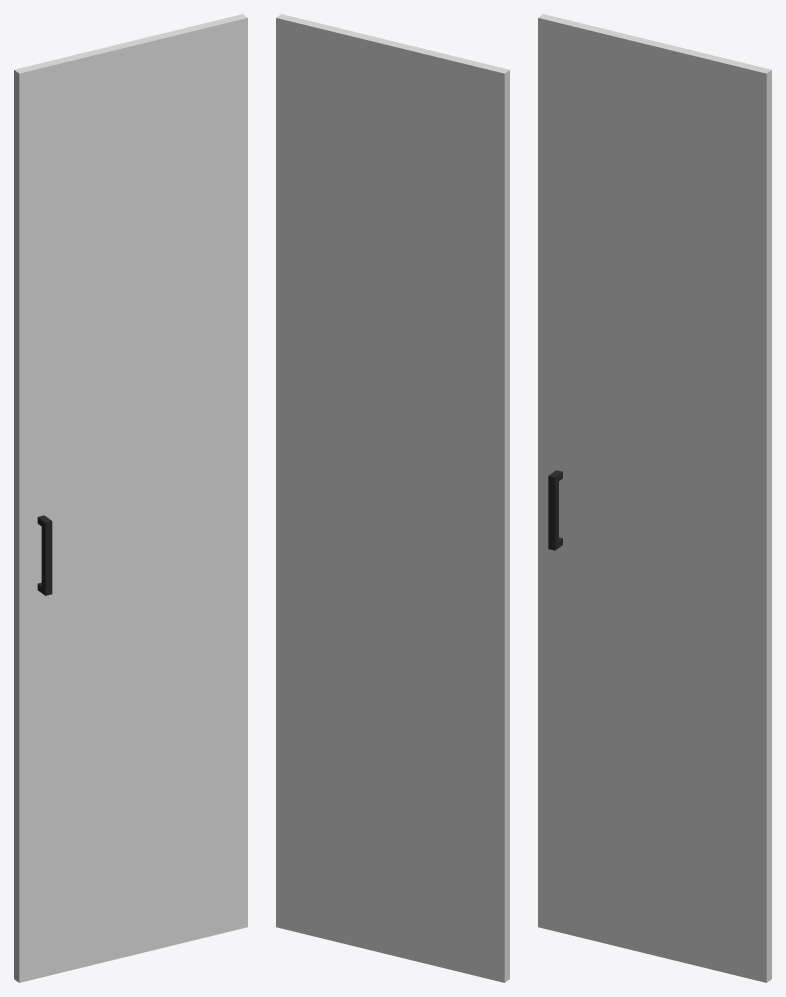
File: Wardrobe1_C1_02.fbx
The picture shows the model from 3 angles, left to right: view 1: azimuth 30°, elevation 25°; view 2: azimuth 150°, elevation 25°; view 3: azimuth 330°, elevation 25°; orthographic projection.
Parts seen in each view (by area): view 1: Wardrobe1_C1_02; view 2: Wardrobe1_C1_02; view 3: Wardrobe1_C1_02.
Part boxes in pixels (box(x1,y1,x2,y2)): Wardrobe1_C1_02: box(14, 14, 247, 982); Wardrobe1_C1_02: box(276, 14, 509, 982); Wardrobe1_C1_02: box(538, 14, 771, 982).
Bounding box in the file's own units: 50 × 190 × 5.02.
